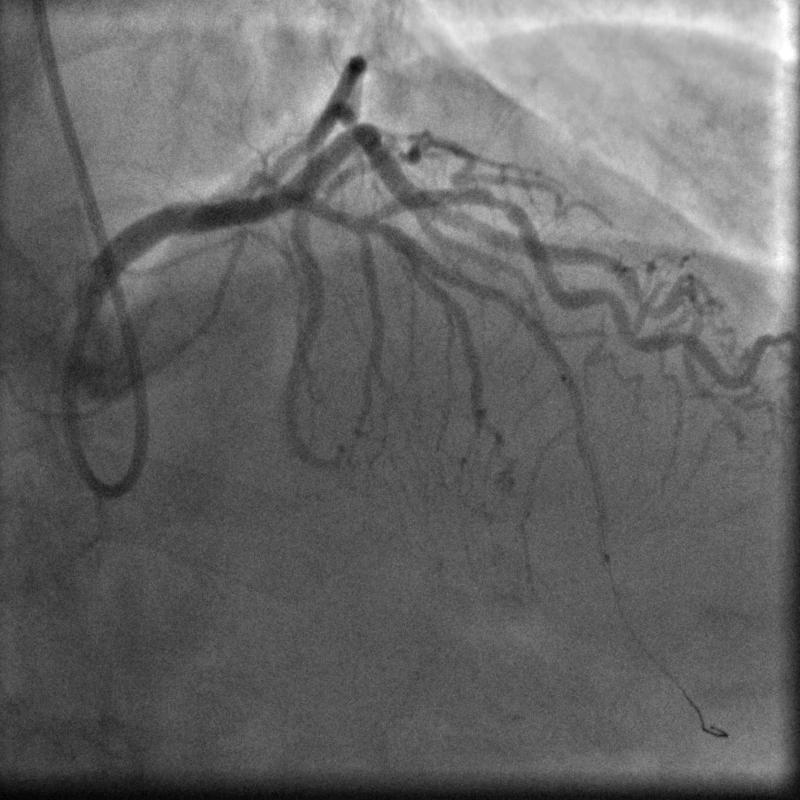Stenosis: (479, 185, 518, 227)
